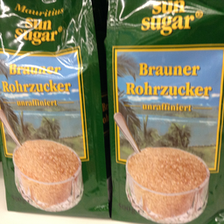tomato_sauce: (103, 1, 222, 224), (1, 1, 110, 223)
